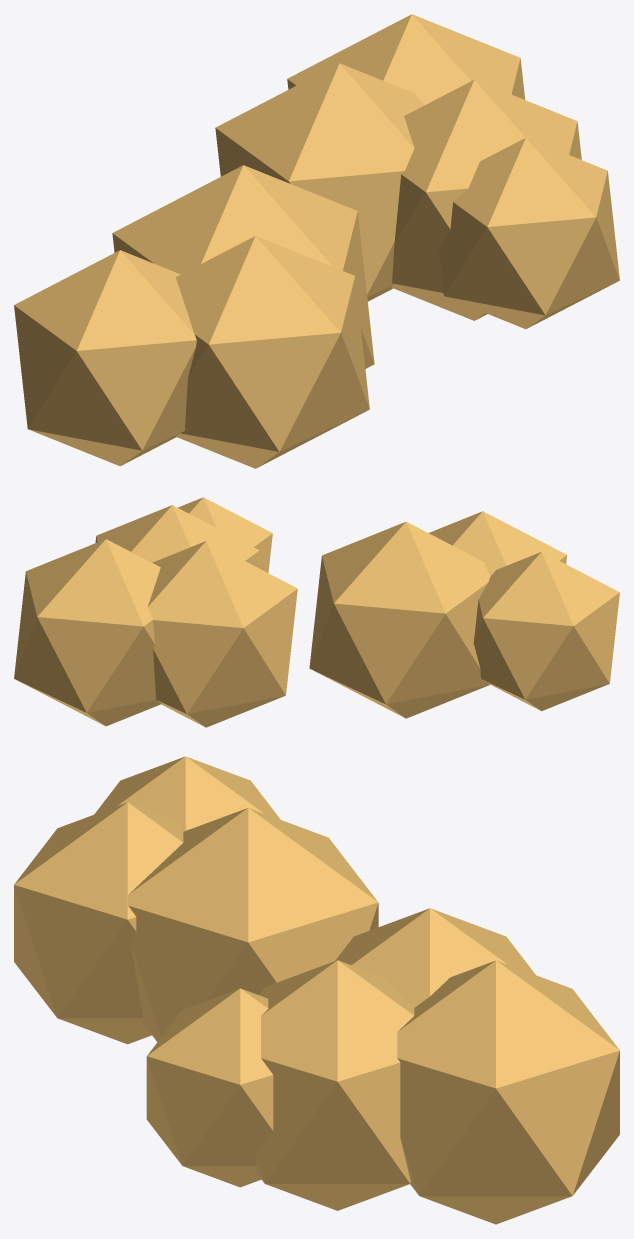
The model's file is food.glb.
3 views of the same model, one above another, from view 1: azimuth 30°, elevation 25°; view 2: azimuth 150°, elevation 25°; view 3: azimuth 270°, elevation 25° (orthographic). The views are drawn at different scales.
Parts seen in each view (by area): view 1: Miette, Miette.004, Miette.002, Miette.005, Miette.003, Miette.006, Miette.001; view 2: Miette.006, Miette.005, Miette.001, Miette.004, Miette.003, Miette, Miette.002; view 3: Miette.001, Miette.006, Miette.003, Miette, Miette.002, Miette.005, Miette.004.
Part boxes in pixels (<box>): Miette: <box>176,236,369,468</box>; Miette.004: <box>14,250,196,466</box>; Miette.002: <box>438,138,619,329</box>; Miette.005: <box>215,63,424,301</box>; Miette.003: <box>391,79,581,320</box>; Miette.006: <box>112,165,374,368</box>; Miette.001: <box>287,14,525,104</box>; Miette.006: <box>309,521,490,718</box>; Miette.005: <box>147,541,297,727</box>; Miette.001: <box>14,539,161,726</box>; Miette.004: <box>473,551,619,711</box>; Miette.003: <box>95,505,259,567</box>; Miette: <box>429,511,567,576</box>; Miette.002: <box>178,497,272,572</box>; Miette.001: <box>397,960,619,1224</box>; Miette.006: <box>128,808,378,1041</box>; Miette.003: <box>255,960,414,1210</box>; Miette: <box>14,802,186,1044</box>; Miette.002: <box>146,988,273,1187</box>; Miette.005: <box>335,908,535,1007</box>; Miette.004: <box>94,756,280,830</box>.
Size of the model in its own units: 1.51 by 0.5987 by 1.18.
